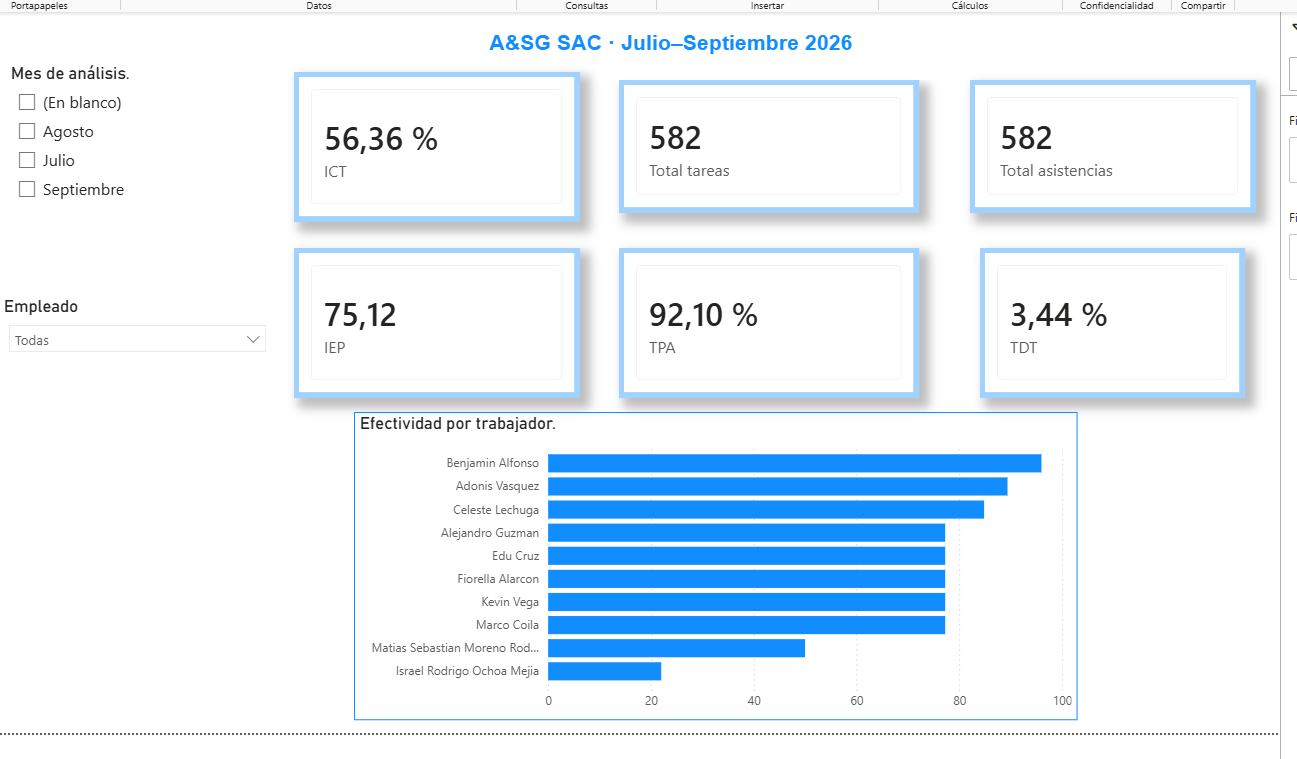

Layout of this report page (visuals, bound fields, positions):
{"tool":"powerbi","page":{"name":"Rendimiento del personal","canvas":[1280,720],"ordinal":0},"visuals":[{"type":"cardVisual","fields":{"Data":["vw_rendimiento_kpis.Total asistencias"]},"box":[970.2,67.9,285.8,132.9],"z":0},{"type":"cardVisual","fields":{"Data":["vw_dim_administrador.Total tareas"]},"box":[619.5,67.9,299.8,132.9],"z":1000},{"type":"textbox","box":[401.7,14,539.6,54],"z":2000},{"type":"cardVisual","fields":{"Data":["vw_rendimiento_kpis.ICT"]},"box":[294.8,60,285.8,149.9],"z":3000},{"type":"cardVisual","fields":{"Data":["vw_rendimiento_kpis.TPA"]},"box":[619.5,235.8,299.8,149.9],"z":4000},{"type":"cardVisual","fields":{"Data":["vw_rendimiento_kpis.IEP"]},"box":[294.8,235.8,285.8,149.9],"z":5000},{"type":"cardVisual","fields":{"Data":["vw_rendimiento_kpis.TDT"]},"box":[980.2,235.8,264.8,149.9],"z":6000},{"type":"slicer","title":"Mes de análisis.","fields":{"Values":["vw_dim_tiempo.nombre_mes"]},"box":[7,51,267.8,166.9],"z":7000},{"type":"slicer","title":"Empleado","fields":{"Values":["vw_dim_trabajador.nombre_completo"]},"box":[0,283.8,276.8,83.9],"z":8000},{"type":"clusteredBarChart","title":"Efectividad por trabajador.","fields":{"Category":["vw_dim_trabajador.nombre_completo"],"Y":["vw_rendimiento_kpis.IEP"]},"box":[354.7,399.7,723.4,307.8],"z":9000}]}

Visuals, with their boxes on the page's 1280x720 design canvas (x1, y1, x2, y2). These are canvas units, not pixel positions in the 1297x759 screenshot, which may show the page scaled, cropped or inside an application window:
cardVisual - vw_rendimiento_kpis.Total asistencias: crop(970, 68, 1256, 201)
cardVisual - vw_dim_administrador.Total tareas: crop(620, 68, 919, 201)
textbox: crop(402, 14, 941, 68)
cardVisual - vw_rendimiento_kpis.ICT: crop(295, 60, 581, 210)
cardVisual - vw_rendimiento_kpis.TPA: crop(620, 236, 919, 386)
cardVisual - vw_rendimiento_kpis.IEP: crop(295, 236, 581, 386)
cardVisual - vw_rendimiento_kpis.TDT: crop(980, 236, 1245, 386)
"Mes de análisis." slicer: crop(7, 51, 275, 218)
"Empleado" slicer: crop(0, 284, 277, 368)
"Efectividad por trabajador." clusteredBarChart: crop(355, 400, 1078, 708)
